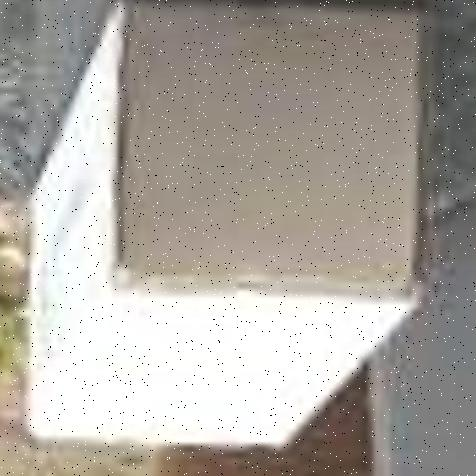Other: (27, 2, 430, 442)
